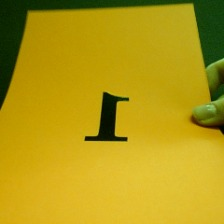orange1: (71, 83, 138, 144)
